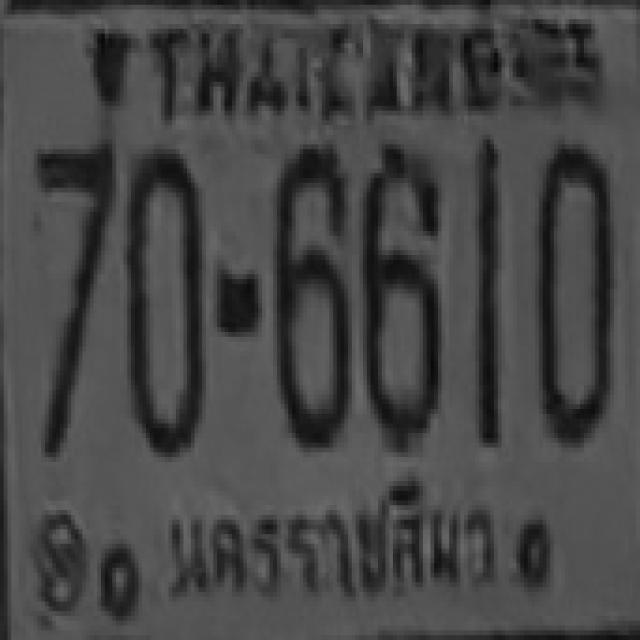0: (124, 144, 202, 452), (533, 142, 612, 440)
1: (470, 142, 500, 392)
6: (359, 142, 438, 445), (273, 144, 348, 443)
7: (34, 140, 112, 346), (34, 140, 112, 327)
NakhonRatchasima: (164, 474, 513, 616)
